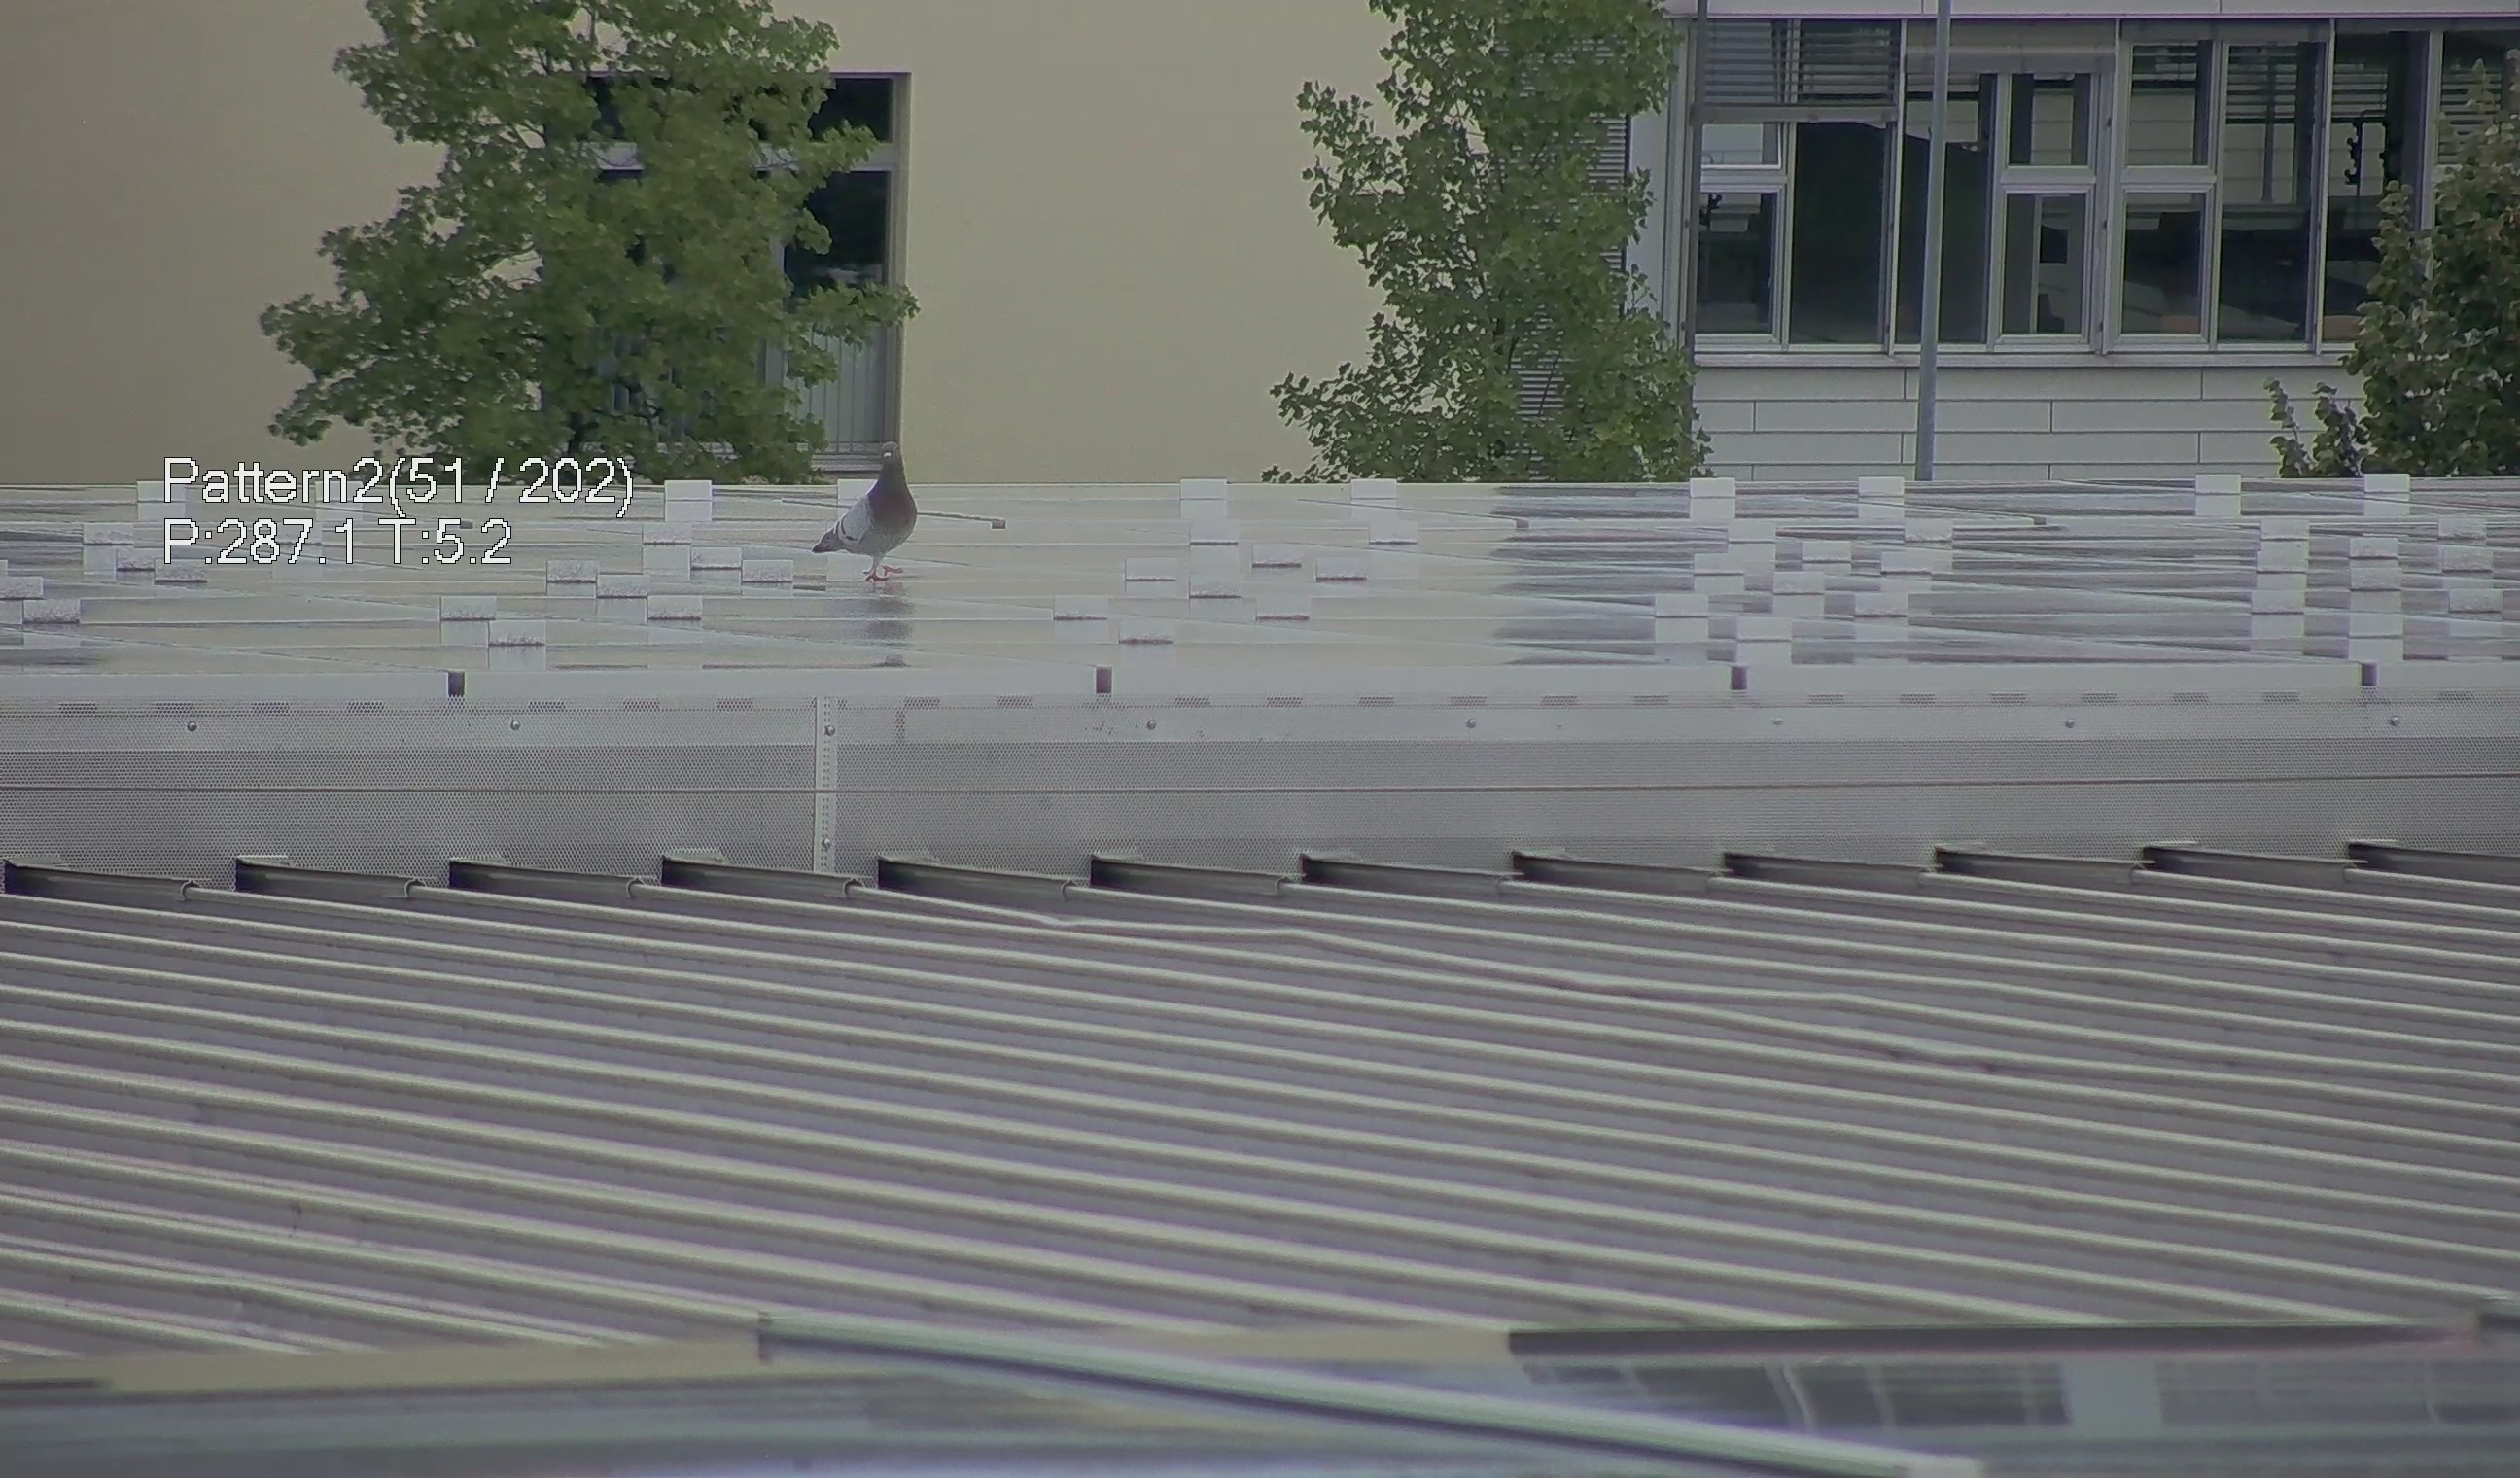Pigeon: (793, 440, 925, 572)
